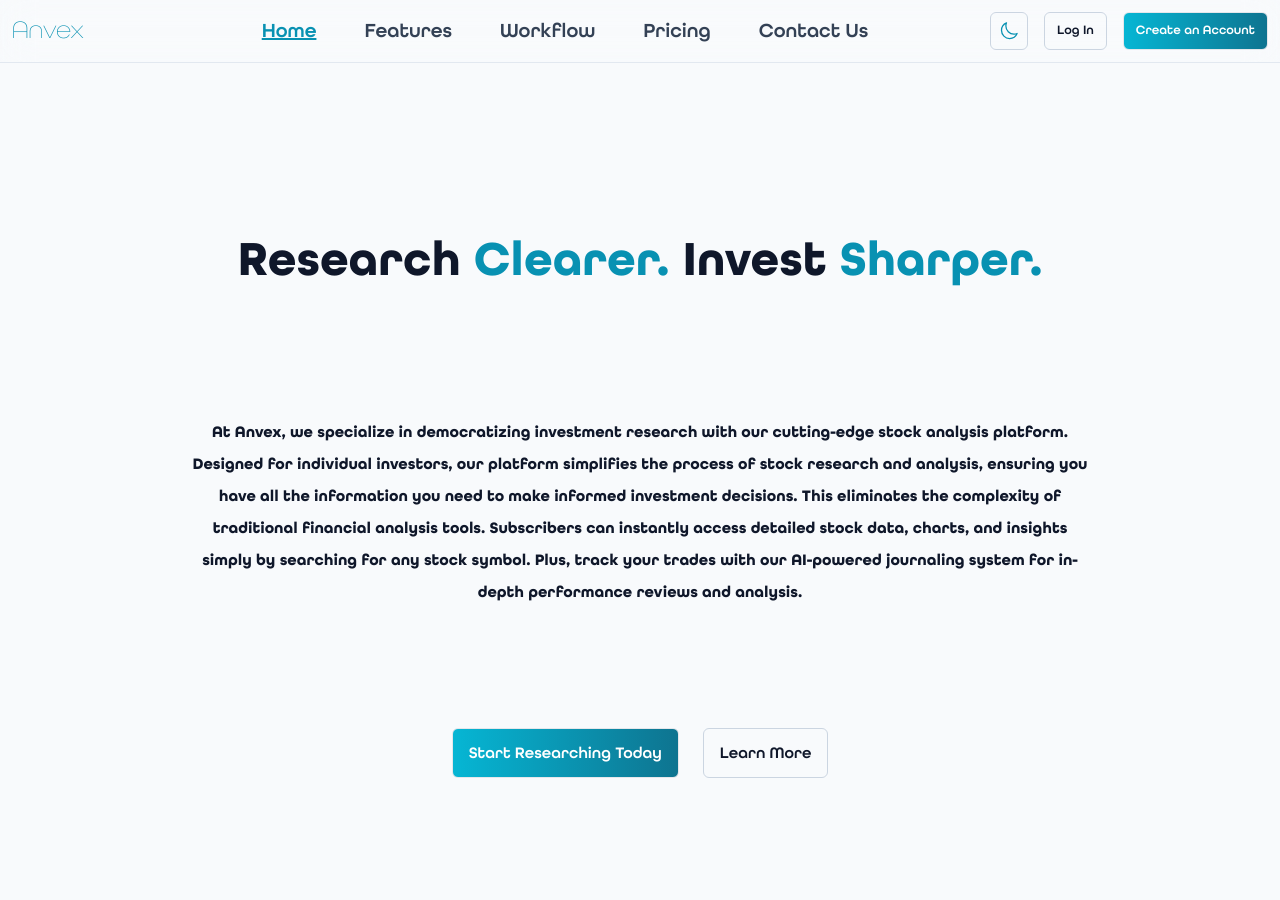
Test: the nav is auth-aware › navigates in-app rather than reloading the document
Click the link "Log In". click: (1075, 31)
box: 1044,12 -> 1107,50
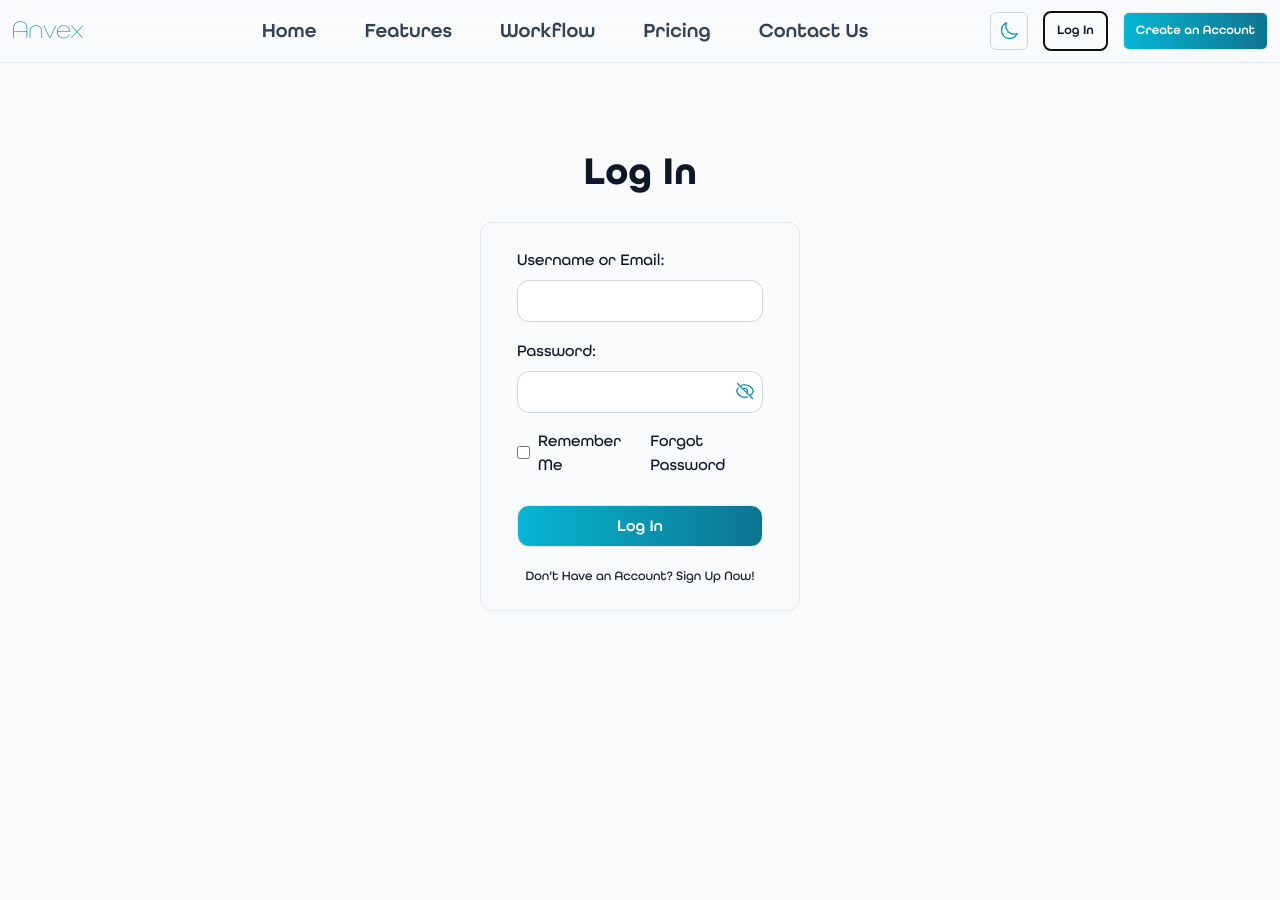
Check: the element with test id "route-login" is shown, box 480,148 -> 800,611
